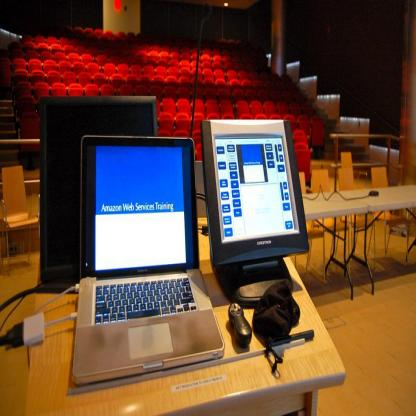board: (72, 131, 226, 386)
